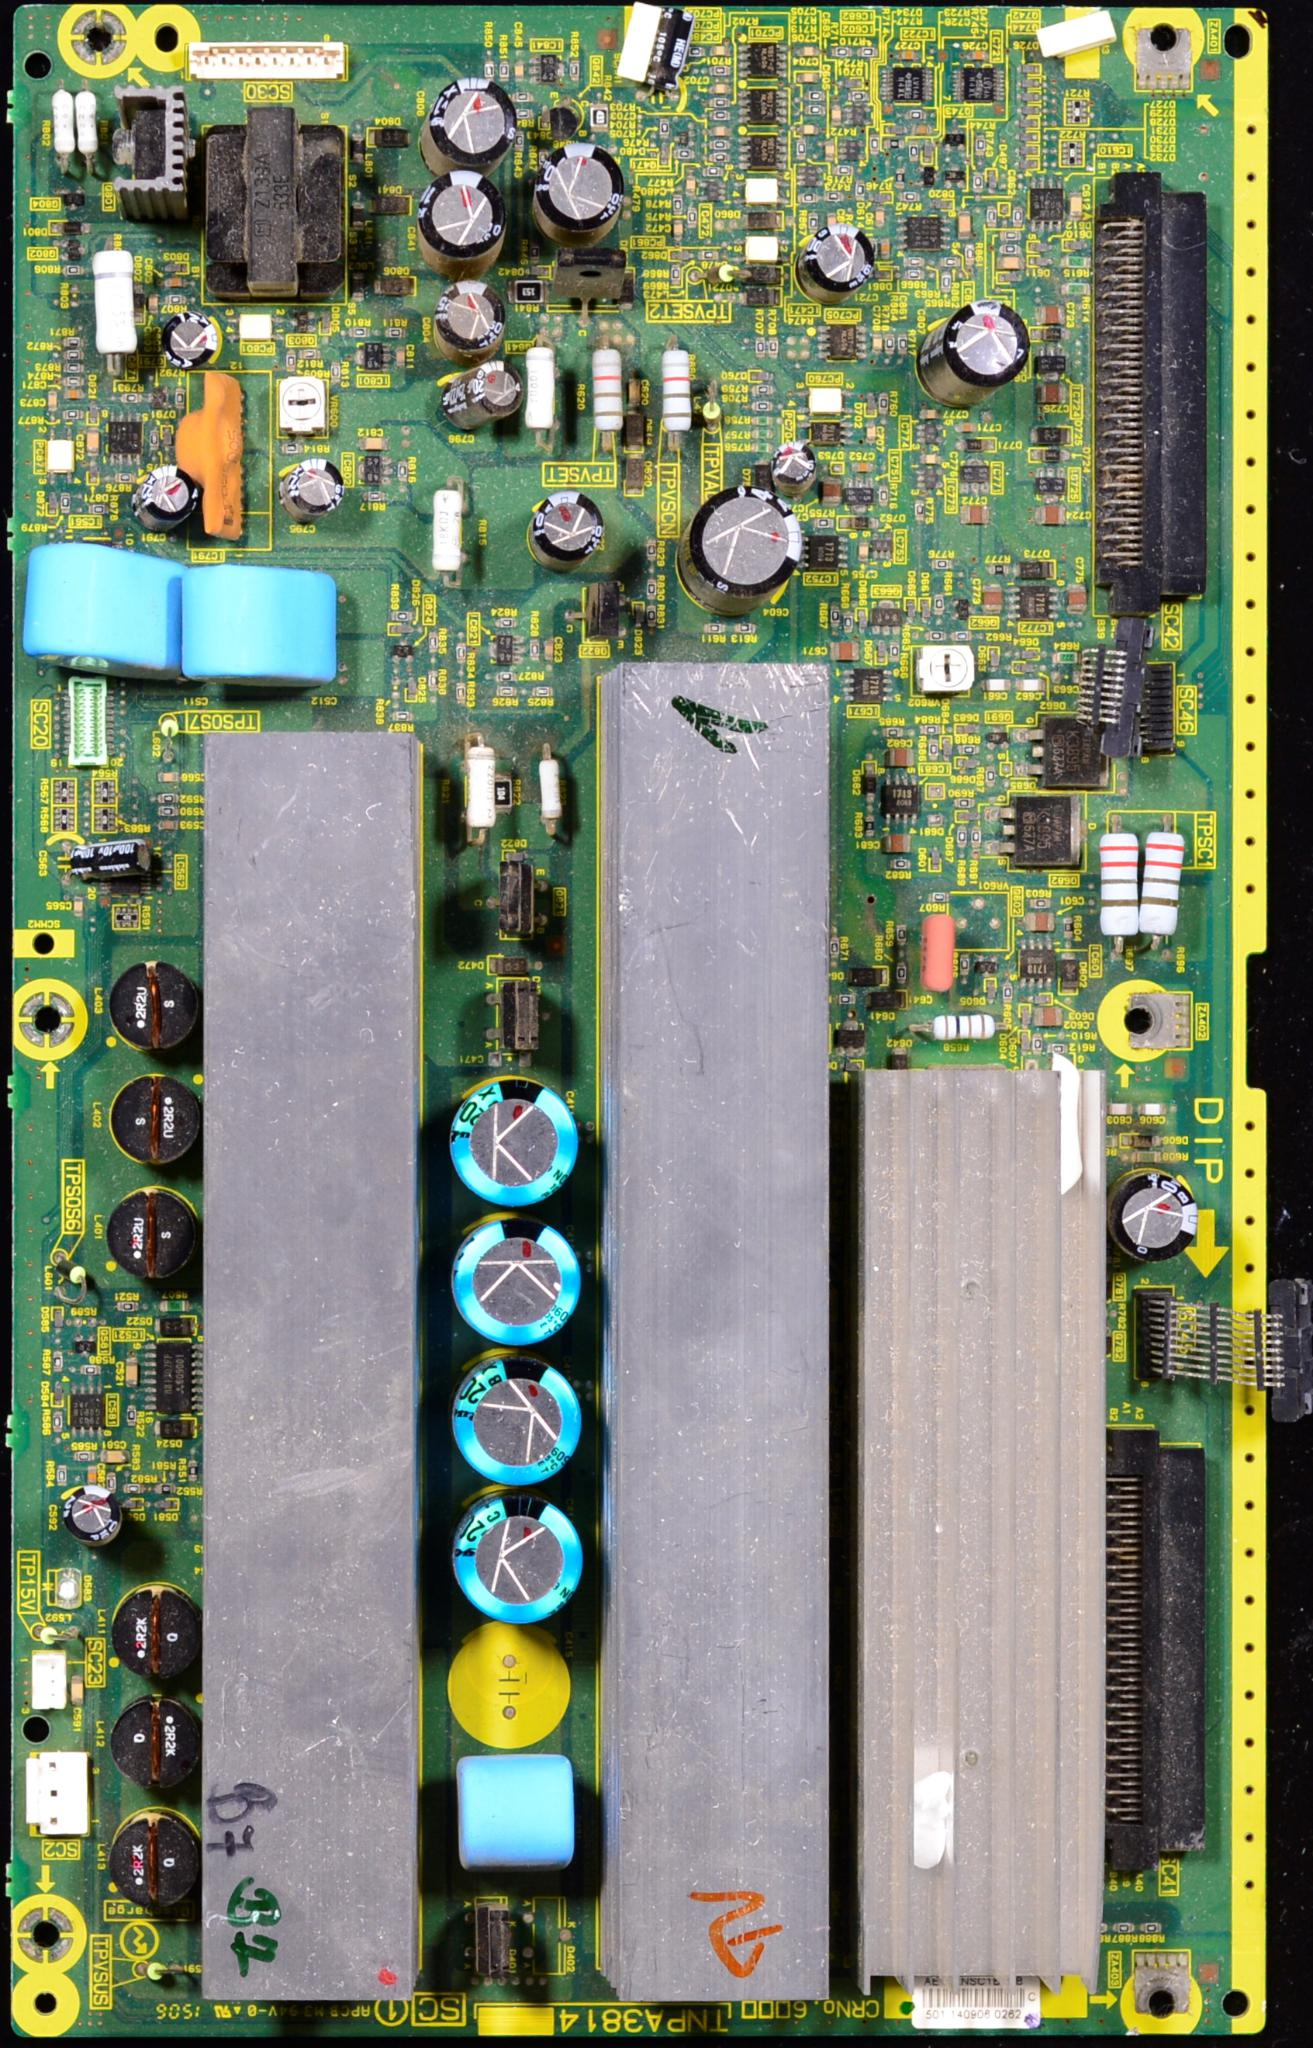Capacitor Jumper: (1034, 302, 1067, 327), (1065, 581, 1089, 615), (980, 582, 1004, 616), (1035, 502, 1067, 525), (1135, 1102, 1168, 1124), (958, 503, 991, 525), (830, 639, 859, 663), (1022, 912, 1055, 931), (1016, 678, 1046, 699), (883, 833, 918, 851), (1030, 1008, 1064, 1025), (997, 252, 1025, 273), (1035, 384, 1064, 405), (955, 209, 971, 242), (886, 748, 912, 767), (1107, 1100, 1134, 1118), (84, 428, 101, 455), (1070, 191, 1085, 222), (985, 678, 1010, 696), (918, 408, 943, 424), (122, 1358, 137, 1384), (103, 1449, 127, 1464), (63, 385, 87, 400), (157, 770, 181, 784), (853, 461, 874, 475), (918, 452, 940, 464), (154, 819, 179, 830), (46, 390, 58, 410), (871, 331, 882, 352), (72, 1681, 81, 1702), (867, 422, 876, 443), (673, 222, 682, 237), (515, 64, 522, 82), (545, 640, 552, 657), (825, 146, 834, 160), (961, 422, 974, 431), (798, 46, 813, 54), (707, 84, 727, 88), (833, 107, 839, 121), (688, 181, 695, 191), (877, 209, 882, 225), (803, 75, 812, 82), (713, 46, 724, 52), (90, 1470, 94, 1484), (803, 125, 815, 130), (713, 128, 725, 133), (830, 213, 836, 222), (971, 52, 980, 58), (898, 51, 909, 55), (915, 127, 927, 130)
Connector: (1103, 1420, 1201, 1866), (1100, 187, 1209, 585)
IC: (143, 1340, 206, 1415), (66, 1384, 113, 1436), (1025, 175, 1067, 233), (894, 213, 949, 257), (736, 133, 789, 176), (812, 324, 865, 367), (880, 64, 937, 104), (839, 666, 895, 706), (736, 87, 786, 131), (882, 775, 922, 828), (1016, 939, 1055, 991), (733, 42, 786, 79), (946, 69, 1006, 102), (798, 534, 850, 572), (1009, 587, 1059, 622), (351, 343, 395, 379), (803, 419, 853, 451), (488, 631, 527, 669), (843, 476, 877, 518), (1031, 343, 1067, 382), (357, 452, 392, 491), (530, 54, 568, 90), (959, 461, 994, 497), (913, 419, 947, 451), (915, 464, 944, 497), (867, 527, 894, 563), (1032, 469, 1064, 499)
Resistor Jumper: (90, 249, 142, 366), (1097, 828, 1141, 934), (1143, 830, 1183, 934), (463, 742, 504, 831), (659, 343, 697, 437), (427, 488, 466, 576), (588, 343, 622, 437), (522, 346, 554, 434), (536, 755, 568, 831), (922, 1014, 1003, 1043), (49, 91, 75, 161), (76, 93, 100, 166), (49, 776, 76, 805), (91, 778, 118, 806), (48, 806, 76, 830), (91, 803, 115, 830), (358, 434, 386, 452), (394, 346, 410, 369), (63, 334, 85, 349), (63, 360, 85, 375), (63, 349, 88, 361), (63, 372, 88, 384), (157, 806, 179, 817), (158, 793, 178, 802), (428, 633, 437, 651), (483, 66, 494, 79), (897, 967, 906, 982), (1137, 1152, 1155, 1160), (52, 1414, 60, 1432), (497, 615, 515, 622), (810, 94, 827, 102), (75, 1452, 88, 1461), (976, 176, 985, 190), (1064, 257, 1083, 263), (164, 1302, 179, 1309), (84, 1366, 98, 1373), (352, 328, 367, 336), (843, 616, 850, 631), (930, 743, 937, 758), (767, 343, 776, 355), (830, 942, 837, 955), (941, 275, 949, 288), (991, 567, 1004, 575), (58, 1467, 64, 1484), (533, 640, 539, 657), (883, 730, 900, 736), (974, 139, 983, 149), (755, 431, 776, 436), (958, 830, 965, 842), (1028, 899, 1043, 905), (516, 94, 528, 102), (710, 112, 725, 118), (119, 1303, 134, 1309), (57, 1357, 63, 1372), (858, 185, 865, 197), (331, 367, 339, 379), (894, 928, 900, 942), (1030, 1037, 1035, 1051), (870, 139, 876, 152), (756, 340, 762, 354), (303, 351, 316, 357), (121, 394, 139, 399), (64, 412, 78, 418), (651, 543, 656, 557), (649, 579, 655, 593), (533, 688, 546, 694), (458, 687, 464, 700), (897, 173, 904, 184), (1013, 209, 1021, 219), (936, 558, 946, 566), (704, 625, 721, 630), (574, 64, 579, 81), (986, 770, 992, 782), (127, 1409, 133, 1421), (715, 140, 727, 146), (388, 328, 400, 334), (862, 49, 874, 55), (649, 609, 655, 621), (501, 66, 507, 78), (906, 112, 921, 116), (807, 216, 815, 225), (897, 337, 904, 346), (755, 419, 770, 424), (936, 597, 943, 606), (431, 676, 436, 691), (933, 894, 943, 900), (658, 122, 664, 133), (910, 146, 916, 157), (988, 210, 994, 221), (688, 213, 694, 224), (886, 337, 892, 348), (176, 391, 182, 402), (755, 442, 765, 448), (500, 690, 510, 696), (67, 270, 81, 275), (64, 496, 69, 509), (501, 675, 515, 679), (971, 828, 976, 840), (1055, 1043, 1064, 1049), (521, 113, 530, 119), (889, 140, 898, 146), (191, 1464, 195, 1476), (160, 1487, 172, 1491), (836, 167, 847, 172), (906, 260, 918, 264), (152, 434, 157, 446), (921, 727, 933, 731), (903, 193, 913, 197), (803, 196, 813, 200), (1070, 284, 1080, 288), (758, 403, 768, 408), (119, 476, 130, 481), (739, 624, 749, 628), (677, 151, 685, 157), (707, 166, 722, 169), (834, 611, 837, 625), (855, 94, 864, 99), (128, 1488, 137, 1493), (800, 143, 803, 157), (831, 193, 840, 197), (676, 200, 680, 209), (703, 252, 712, 257), (943, 260, 956, 263), (673, 269, 677, 278), (1003, 233, 1015, 236), (1007, 243, 1019, 246), (756, 388, 768, 391), (97, 506, 103, 512), (933, 633, 938, 639), (397, 614, 404, 618), (962, 746, 970, 751), (107, 1476, 110, 1487), (907, 273, 918, 276), (286, 446, 297, 449), (834, 49, 844, 52), (958, 802, 967, 805), (1004, 990, 1009, 996), (715, 102, 724, 104), (516, 137, 519, 146), (289, 355, 292, 364), (953, 633, 961, 636), (713, 155, 724, 157), (812, 109, 819, 110)
Transistor: (1147, 1290, 1268, 1388), (997, 793, 1083, 872), (1028, 712, 1112, 791), (830, 1020, 865, 1057), (842, 476, 876, 513), (971, 952, 1006, 984), (868, 600, 901, 631), (395, 642, 415, 661), (703, 182, 722, 197), (61, 196, 85, 205), (66, 243, 82, 254), (76, 1340, 91, 1351), (679, 130, 691, 142)
